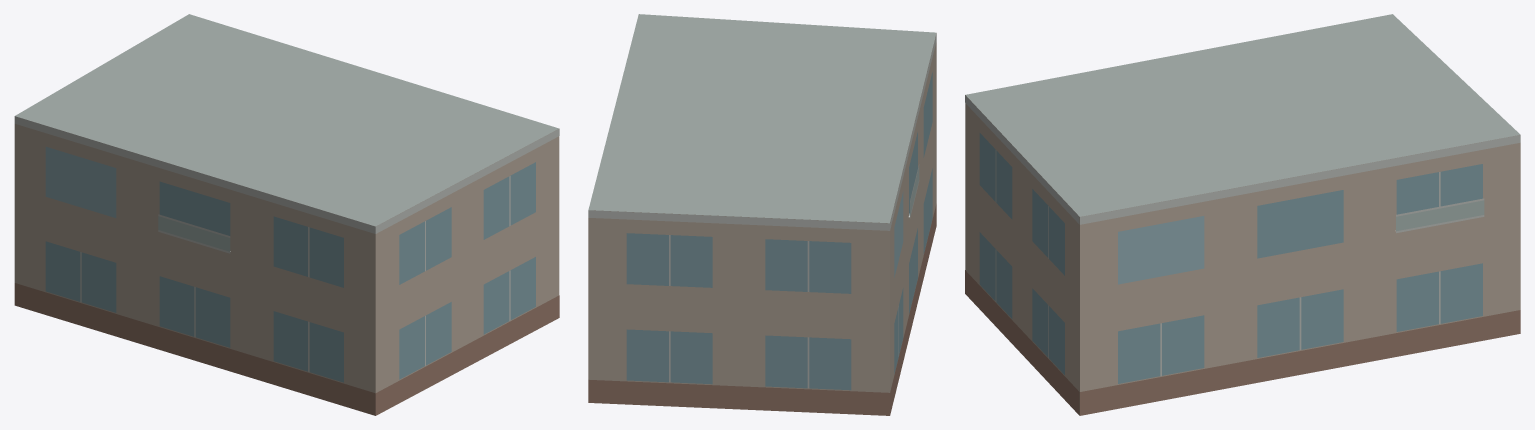
The model's file is survey-upis-32775360.glb.
3 renders of one model, left to right at view 1: azimuth 30°, elevation 25°; view 2: azimuth 150°, elevation 25°; view 3: azimuth 270°, elevation 25°, orthographic. The views are drawn at different scales.
Parts seen in each view (by area): view 1: survey-upis-32775360.tmp; view 2: survey-upis-32775360.tmp; view 3: survey-upis-32775360.tmp.
Part boxes in pixels (x1=…): survey-upis-32775360.tmp: x1=14, y1=14, x2=559, y2=415; survey-upis-32775360.tmp: x1=588, y1=14, x2=936, y2=415; survey-upis-32775360.tmp: x1=965, y1=14, x2=1520, y2=415.
Bounding box in the file's own units: 13.35 × 6.1 × 15.45.
